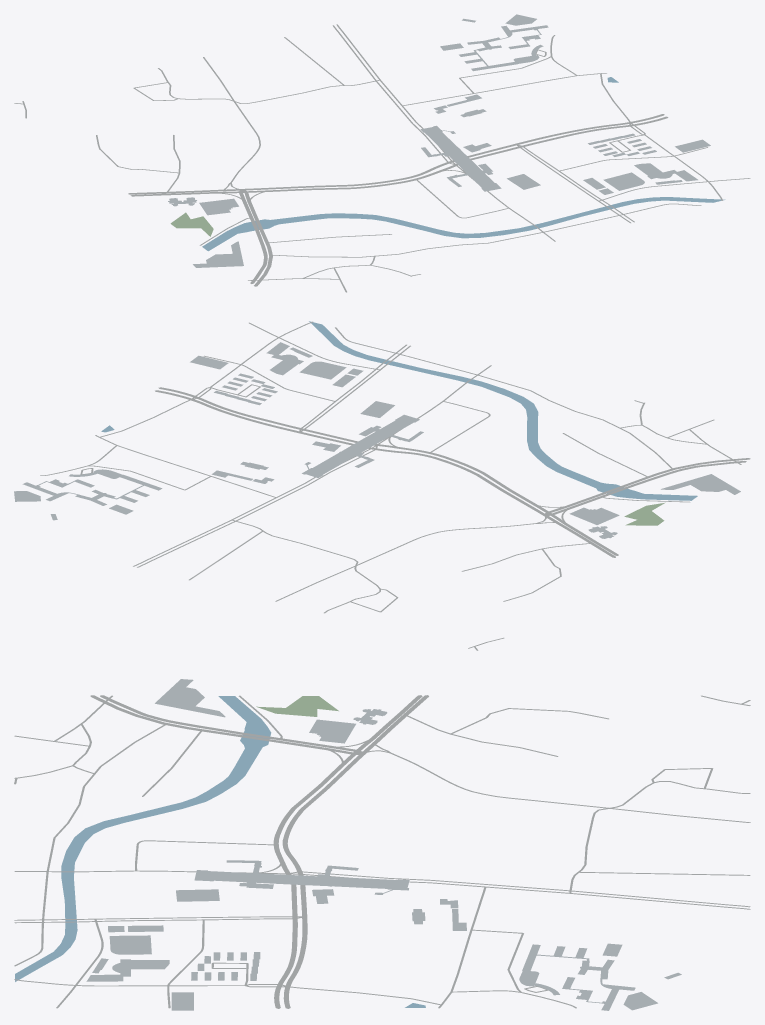
The model's file is -10_16-known-fine.glb.
3 renders of one model, top to bottom at view 1: azimuth 30°, elevation 25°; view 2: azimuth 150°, elevation 25°; view 3: azimuth 270°, elevation 25°, orthographic. The views are drawn at different scales.
Size of the model in its own units: 1063 by 0.15 by 998.
